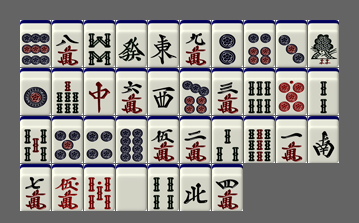0m: (52, 164, 83, 211)
0p: (276, 68, 307, 115)
0s: (84, 164, 115, 211)
1m: (276, 116, 307, 163)
1p: (20, 68, 51, 115)
1s: (308, 20, 339, 67)
1z: (148, 20, 179, 67)
2m: (180, 116, 211, 163)
2p: (212, 20, 243, 67)
2s: (308, 68, 339, 115)
2z: (308, 116, 339, 163)
3m: (212, 68, 243, 115)
3p: (276, 20, 307, 67)
3s: (212, 116, 243, 163)
3z: (148, 68, 179, 115)
4m: (212, 164, 243, 211)
4p: (84, 116, 115, 163)
4s: (148, 164, 179, 211)
4z: (180, 164, 211, 211)
5m: (148, 116, 179, 163)
5p: (52, 116, 83, 163)
5s: (20, 116, 51, 163)
5z: (116, 164, 147, 211)
6m: (116, 68, 147, 115)
6p: (244, 20, 275, 67)
6s: (244, 68, 275, 115)
6z: (116, 20, 147, 67)
7m: (20, 164, 51, 211)
7p: (180, 68, 211, 115)
7s: (52, 68, 83, 115)
7z: (84, 68, 115, 115)
8m: (52, 20, 83, 67)
8p: (116, 116, 147, 163)
8s: (84, 20, 115, 67)
9m: (180, 20, 211, 67)
9p: (20, 20, 51, 67)
9s: (244, 116, 275, 163)
